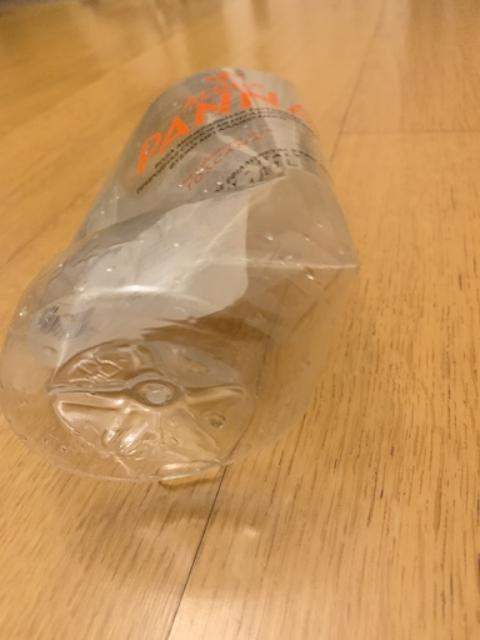plastic: (0, 66, 355, 479)
